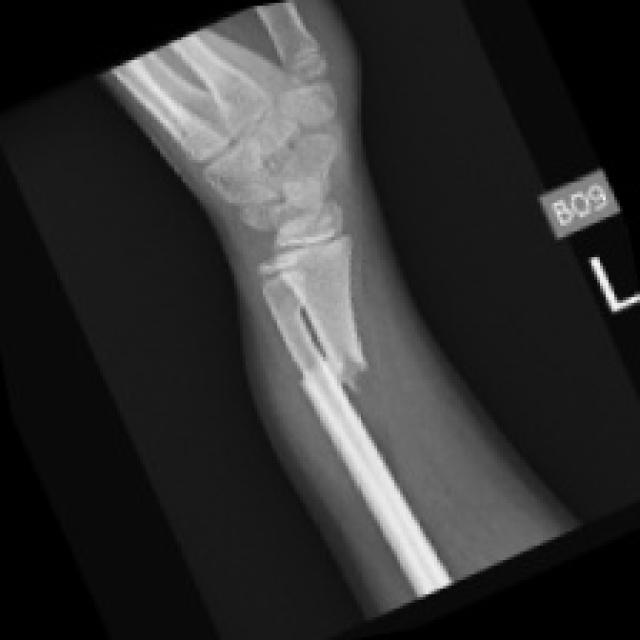fracture: (296, 344, 403, 404)
